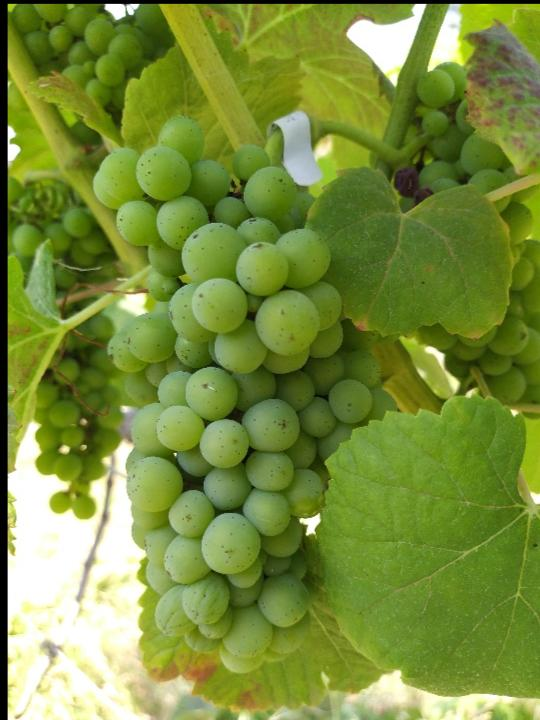grape: (93, 113, 398, 680)
